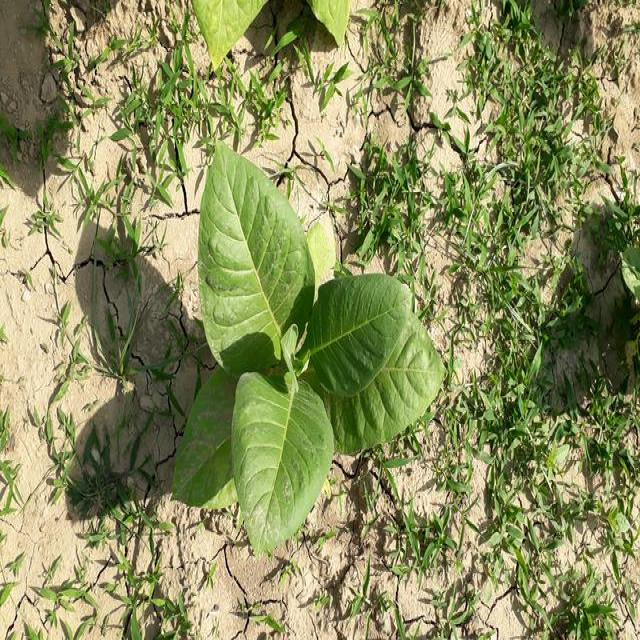crop: (167, 160, 446, 535), (183, 0, 352, 60)
